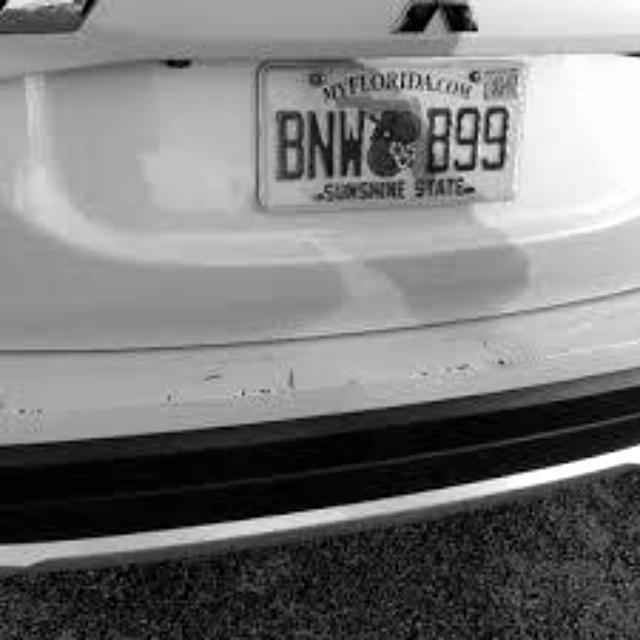rear-bumper-dent: (1, 348, 592, 495)
